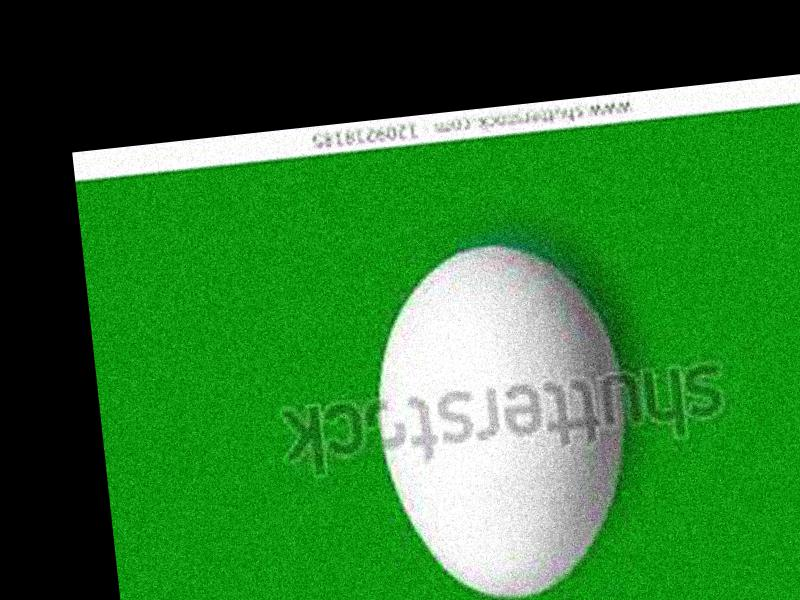Eggs: (364, 236, 644, 600)
